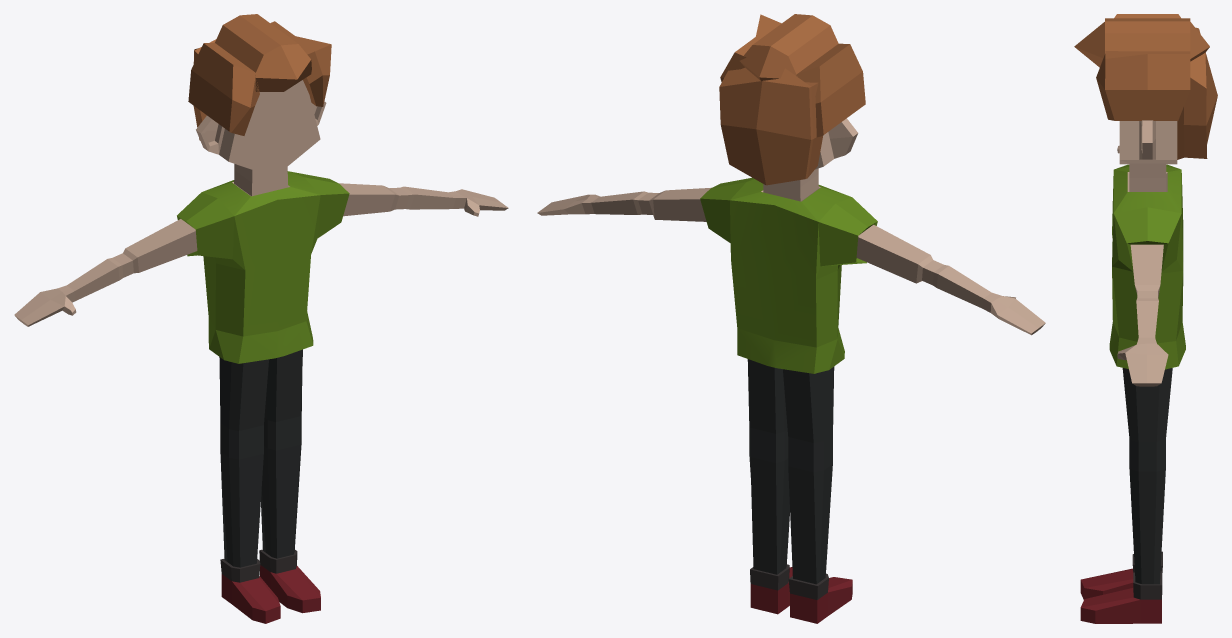
Rendered from BoyClassmate.fbx.
The picture shows the model from 3 angles, left to right: view 1: azimuth 30°, elevation 25°; view 2: azimuth 150°, elevation 25°; view 3: azimuth 270°, elevation 25°; orthographic projection. The views are drawn at different scales.
Parts seen in each view (by area): view 1: pCube10; view 2: pCube10; view 3: pCube10.
Part boxes in pixels (bbox=[...]): pCube10: bbox=[14, 14, 508, 623]; pCube10: bbox=[537, 14, 1045, 623]; pCube10: bbox=[1074, 14, 1217, 623].
Bounding box in the file's own units: 49.75 × 55.77 × 12.42.
